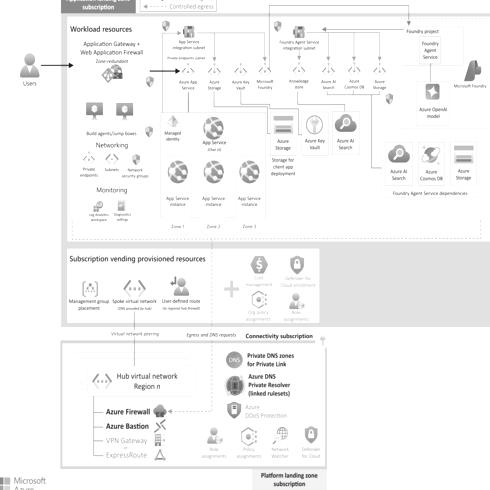actor: (20, 50, 40, 80)
api_gateway: (72, 39, 144, 85)
compute: (78, 98, 139, 129), (193, 116, 234, 152), (413, 85, 449, 121), (406, 31, 446, 62), (165, 178, 191, 208), (200, 178, 226, 208), (236, 178, 262, 208)
data_flow: (162, 65, 182, 126), (234, 421, 393, 425), (266, 141, 269, 346), (268, 4, 406, 8), (210, 152, 212, 326), (152, 408, 208, 413), (183, 94, 244, 98), (371, 62, 374, 139), (132, 290, 136, 341), (144, 70, 175, 74), (40, 63, 70, 67), (296, 46, 300, 72), (324, 46, 328, 72), (350, 46, 354, 72), (184, 46, 187, 72), (264, 46, 267, 72), (376, 46, 379, 72), (210, 46, 212, 72), (238, 46, 240, 72), (430, 60, 432, 80)
database_storage: (270, 116, 296, 152), (418, 149, 444, 180), (449, 149, 475, 180)
network_security: (103, 434, 154, 454), (300, 116, 326, 152), (334, 116, 360, 152), (103, 418, 154, 434), (385, 149, 411, 180), (103, 449, 154, 464), (103, 406, 154, 420), (78, 277, 98, 303), (112, 277, 132, 303), (140, 277, 160, 303), (204, 428, 224, 448), (237, 428, 257, 448), (270, 428, 290, 448), (301, 428, 321, 448), (126, 152, 142, 167), (80, 152, 95, 167), (91, 203, 106, 218), (114, 203, 129, 218), (104, 152, 118, 167)
trust_boundary: (57, 0, 490, 336), (57, 292, 490, 461), (60, 338, 326, 466), (157, 108, 270, 236), (400, 11, 490, 129), (160, 29, 268, 80), (270, 29, 378, 80)
